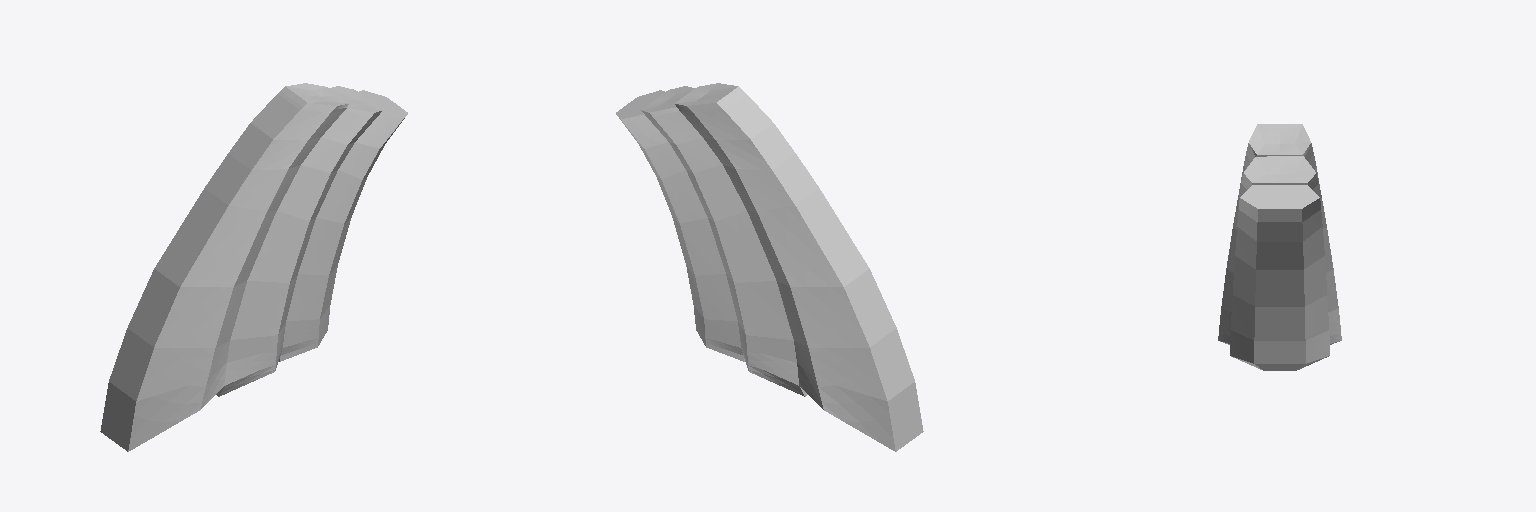
The model's file is test sword.obj.
The picture shows the model from 3 angles: view 1: azimuth 30°, elevation 25°; view 2: azimuth 150°, elevation 25°; view 3: azimuth 270°, elevation 25°; orthographic projection.
Visible parts, largest first — view 1: polySurface6 wings_hi; view 2: polySurface6 wings_hi; view 3: polySurface6 wings_hi.
Boxes of the visible parts, <box> form: polySurface6 wings_hi: <box>100,83,407,451</box>; polySurface6 wings_hi: <box>616,83,923,451</box>; polySurface6 wings_hi: <box>1218,124,1341,370</box>.
Bounding box in the file's own units: 0.9711 × 0.9919 × 0.3675.